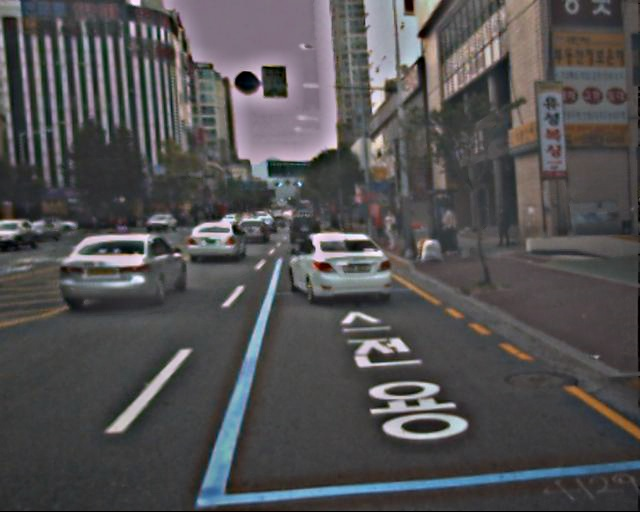person: (438, 204, 460, 257), (494, 203, 513, 250), (382, 210, 400, 255)
